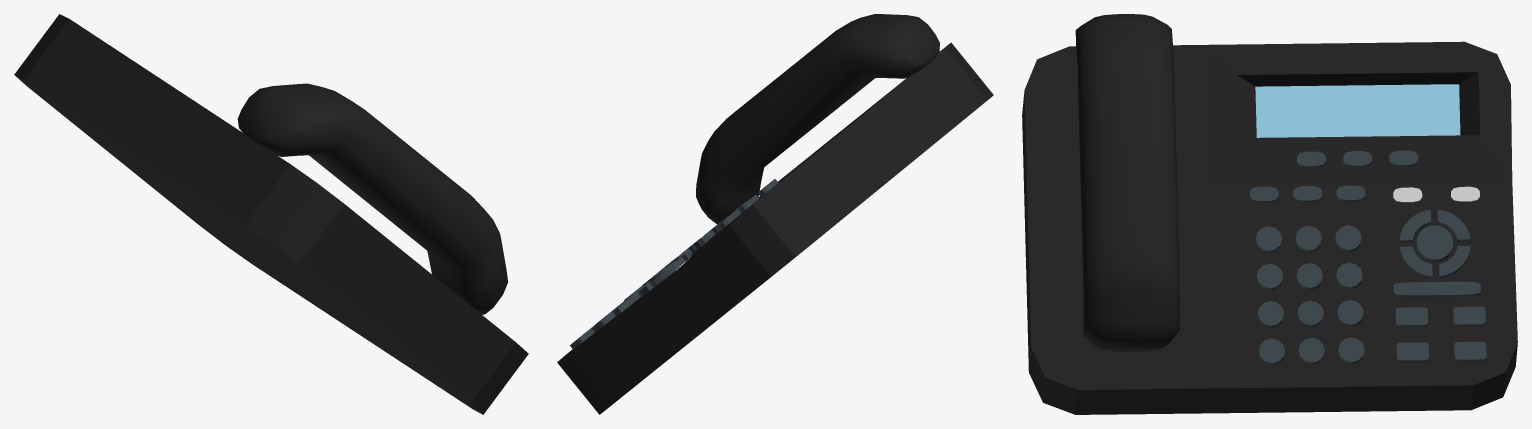
File: TelefonoAsistencia_AndresC_47026729.fbx
The picture shows the model from 3 angles, left to right: view 1: azimuth 30°, elevation 25°; view 2: azimuth 150°, elevation 25°; view 3: azimuth 270°, elevation 25°; orthographic projection. The views are drawn at different scales.
Visible parts, largest first — view 1: telefono; view 2: telefono; view 3: telefono.
Boxes of the visible parts, bbox=[...] form: telefono: bbox=[14, 14, 528, 414]; telefono: bbox=[557, 14, 993, 414]; telefono: bbox=[1022, 14, 1517, 414].
Size of the model in its own units: 13.5 by 14.63 by 20.35.
Materials: 1 (1 with a texture image).
